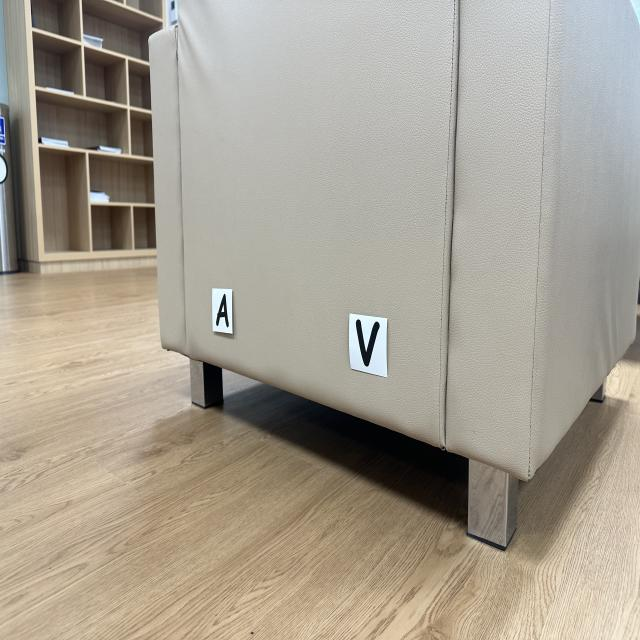A: (216, 294, 229, 327)
V: (356, 320, 380, 367)
